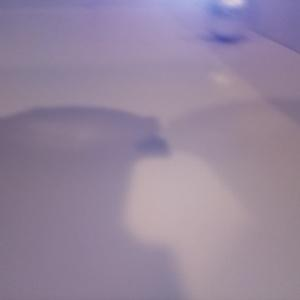alive_ball: (205, 1, 249, 41)
